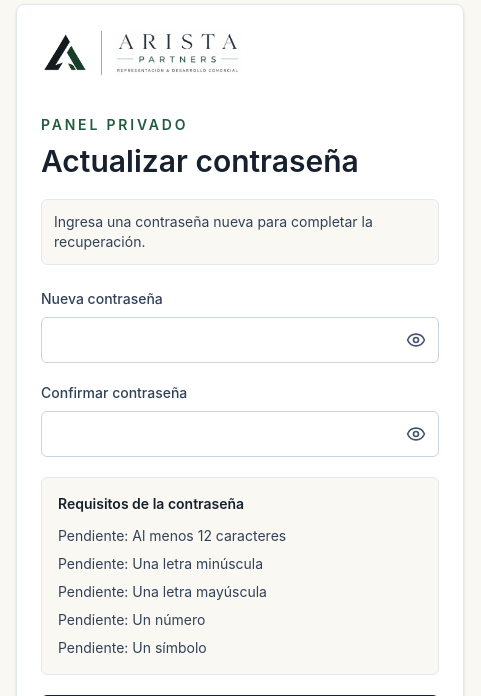
Scenario: admin password recovery › valida coincidencia de confirmación
In the password field labelled "Nueva contraseña": x=218, y=340 [42, 318, 394, 362], type "Password123!"
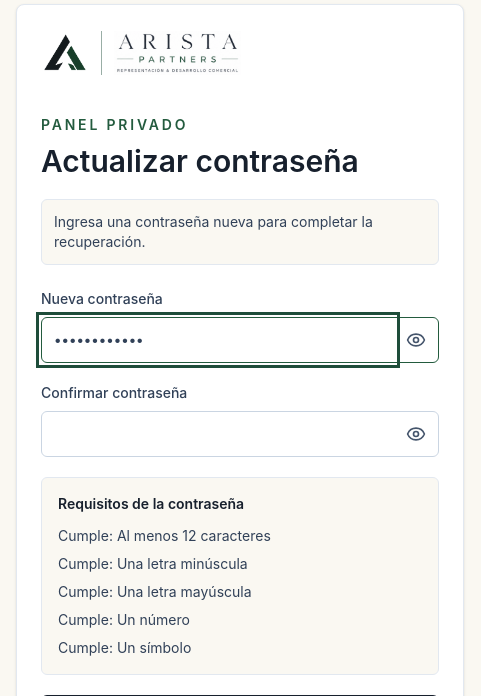
In the password field labelled "Confirmar contraseña": x=218, y=434 [42, 412, 394, 456], type "Password123?"
(page scrolled)
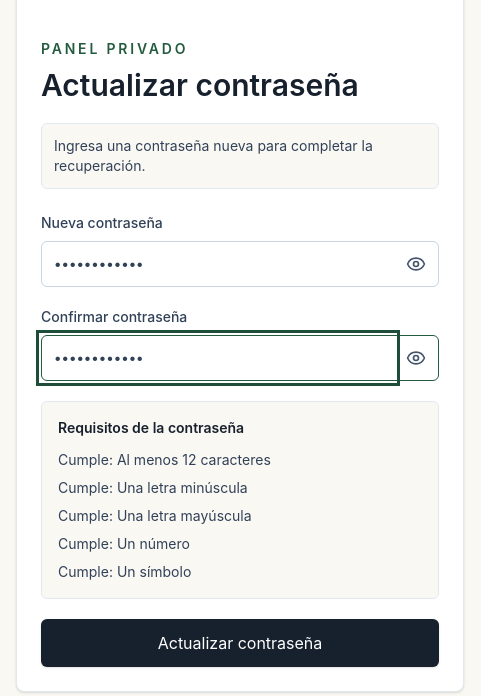
Click the button "Actualizar contraseña": x=240, y=643 [41, 619, 439, 667]
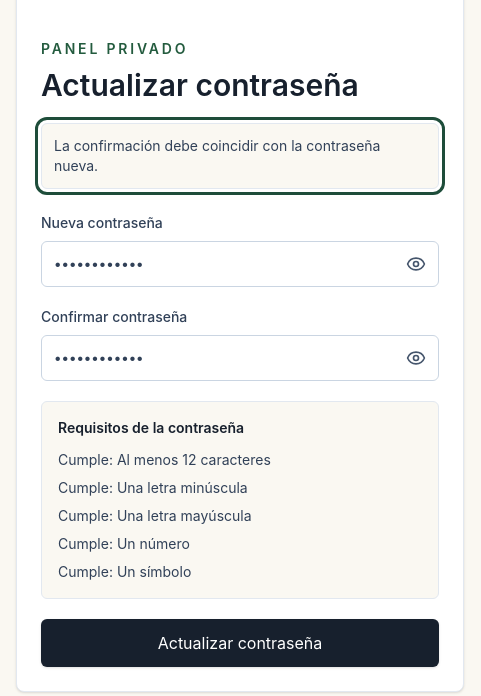
Expected: the message reads "La confirmación debe coincidir con la contraseña nueva.", [54, 137, 380, 174]
